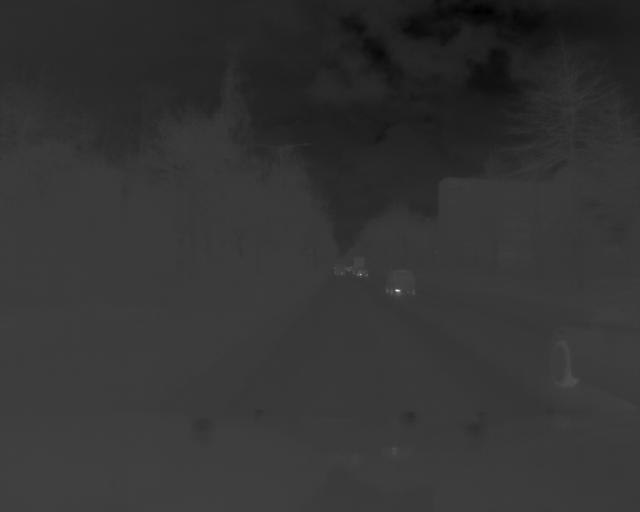car: (548, 276, 640, 411), (382, 268, 418, 297)
